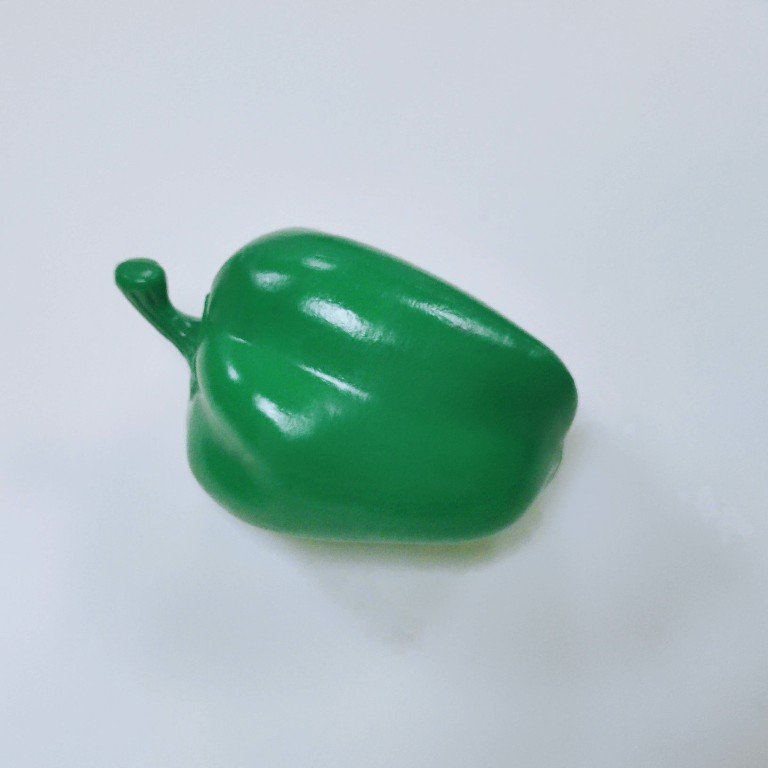fruit_pepper: (107, 222, 581, 551)
